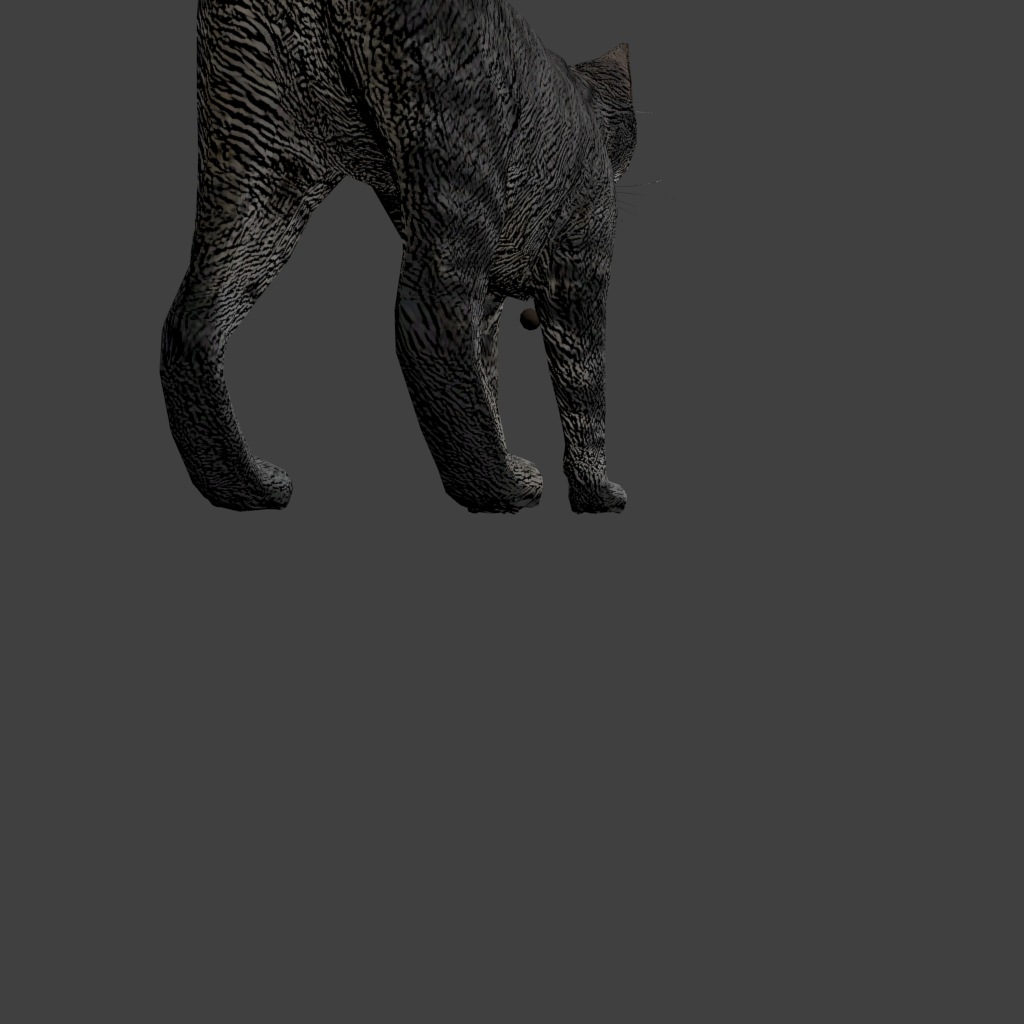Cat: (0, 0, 684, 515)
